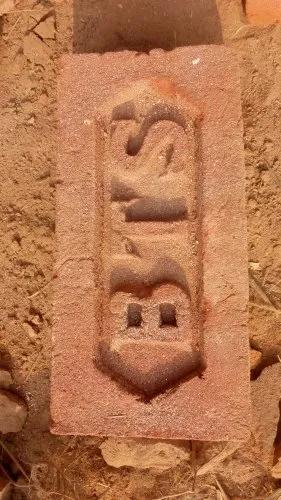brick: (50, 47, 240, 442)
